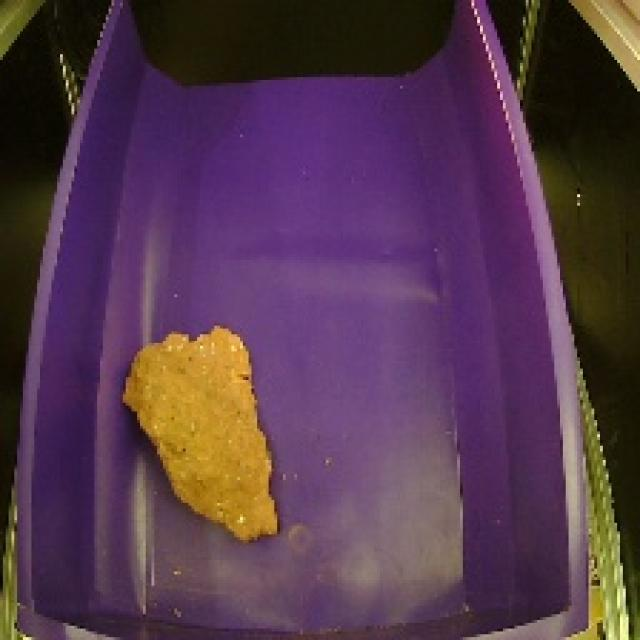brick: (116, 314, 291, 550)
